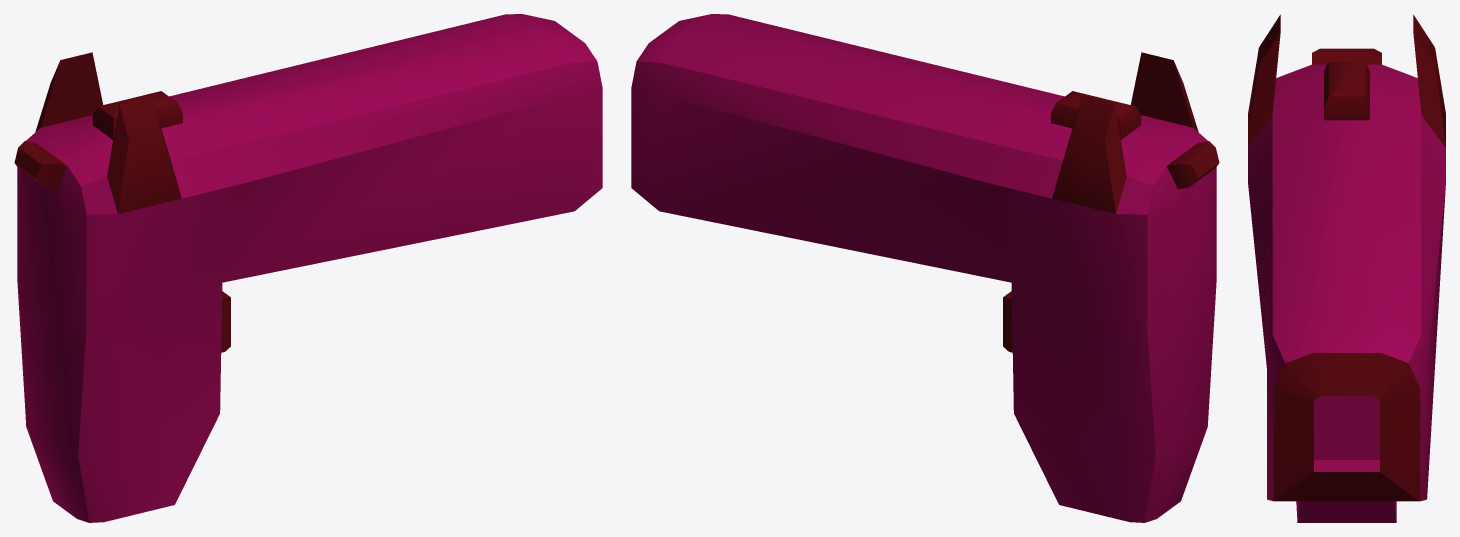
The model's file is Grappling Hook Pistol.fbx.
3 views of the same model, side by side, from view 1: azimuth 30°, elevation 25°; view 2: azimuth 150°, elevation 25°; view 3: azimuth 270°, elevation 25° (orthographic). The views are drawn at different scales.
Parts seen in each view (by area): view 1: Grappling Hook Pistol; view 2: Grappling Hook Pistol; view 3: Grappling Hook Pistol.
Part boxes in pixels (x1=…): Grappling Hook Pistol: x1=14, y1=14, x2=602, y2=522; Grappling Hook Pistol: x1=631, y1=14, x2=1219, y2=522; Grappling Hook Pistol: x1=1248, y1=14, x2=1445, y2=522.
Bounding box in the file's own units: 0.165 × 0.1194 × 0.0451.
